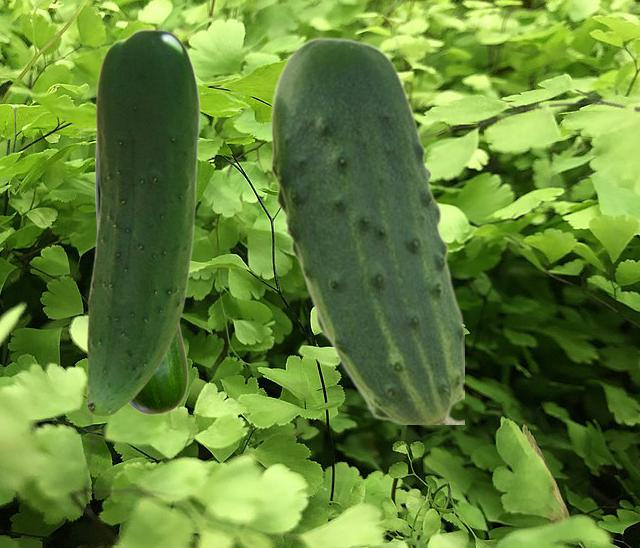cucumber: (270, 36, 463, 423), (86, 29, 199, 416), (94, 133, 187, 414)
